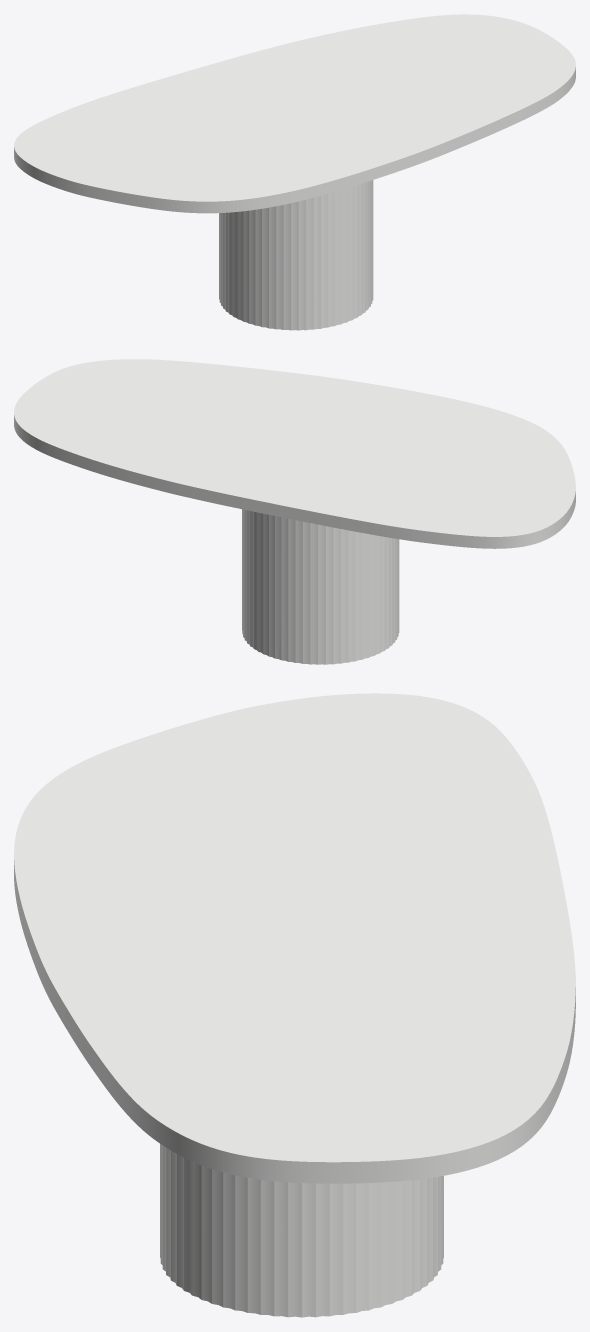
The model's file is purewhite_leaf2_standard_ripple.glb.
The picture shows the model from 3 angles, top to bottom: view 1: azimuth 30°, elevation 25°; view 2: azimuth 150°, elevation 25°; view 3: azimuth 270°, elevation 25°; orthographic projection. The views are drawn at different scales.
Parts seen in each view (by area): view 1: standard_leaf2, ripple; view 2: standard_leaf2, ripple; view 3: standard_leaf2, ripple.
Boxes of the visible parts, <box> form: standard_leaf2: <box>14,14,575,213</box>; ripple: <box>219,180,373,330</box>; standard_leaf2: <box>14,359,575,548</box>; ripple: <box>242,509,399,664</box>; standard_leaf2: <box>14,693,575,1183</box>; ripple: <box>160,1144,443,1317</box>.
Size of the model in its own units: 7.5 by 2.52 by 3.8.
1 material, 1 textured.
